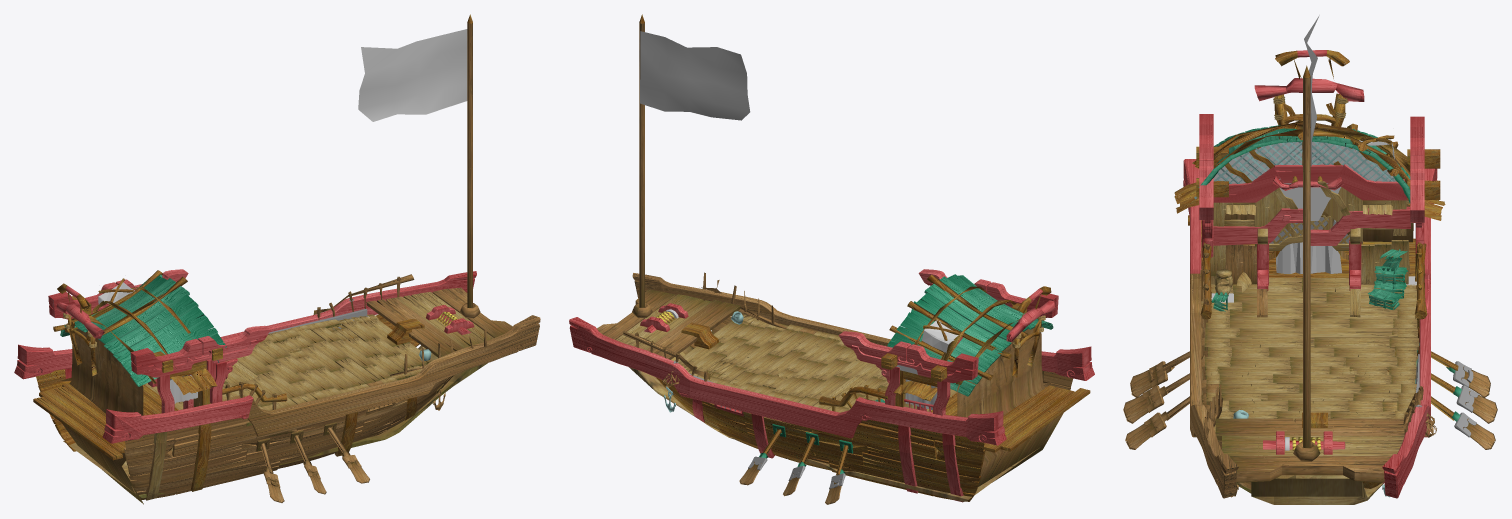
File: 船_lowpoly20.FBX
The picture shows the model from 3 angles, left to right: view 1: azimuth 30°, elevation 25°; view 2: azimuth 150°, elevation 25°; view 3: azimuth 270°, elevation 25°; orthographic projection. The views are drawn at different scales.
Visible parts, largest first — view 1: Object528, 旗帜, Plane01, Object12, Object261, Cylinder018, 船底, Object198, Object200, Object76, Object77, Object36 (+10 smaller); view 2: Object12, 旗帜, Object528, Plane01, Object36, 船底, Object63, Group15, Cylinder018, Object58, Object61, Object59 (+20 smaller); view 3: Object528, Object12, 船底, Cylinder018, Object07, Object182, Object67, Object223, Object36, Object123, Object112, Object261 (+57 smaller).
Part boxes in pixels (bbox=[...]): Object528: bbox=[102, 287, 540, 502]; 旗帜: bbox=[358, 29, 467, 121]; Plane01: bbox=[62, 328, 143, 504]; Object12: bbox=[14, 271, 476, 379]; Object261: bbox=[130, 325, 270, 377]; Cylinder018: bbox=[467, 23, 472, 307]; 船底: bbox=[63, 345, 487, 498]; Object198: bbox=[104, 294, 198, 354]; Object200: bbox=[113, 306, 208, 365]; Object76: bbox=[33, 396, 122, 460]; Object77: bbox=[39, 389, 125, 453]; Object36: bbox=[48, 269, 188, 319]; Object12: bbox=[569, 317, 1006, 445]; 旗帜: bbox=[640, 31, 750, 120]; Object528: bbox=[597, 273, 1094, 446]; Plane01: bbox=[957, 327, 1063, 486]; Object36: bbox=[838, 331, 978, 383]; 船底: bbox=[629, 346, 1038, 501]; Object63: bbox=[782, 421, 936, 458]; Group15: bbox=[861, 419, 985, 468]; Cylinder018: bbox=[639, 23, 644, 307]; Object58: bbox=[745, 422, 863, 465]; Object61: bbox=[862, 452, 980, 489]; Object59: bbox=[828, 459, 977, 501]; Object528: bbox=[1123, 159, 1404, 498]; Object12: bbox=[1382, 168, 1437, 498]; 船底: bbox=[1236, 350, 1395, 504]; Cylinder018: bbox=[1303, 77, 1310, 447]; Object07: bbox=[1194, 141, 1395, 199]; Object182: bbox=[1222, 435, 1404, 450]; Object67: bbox=[1213, 141, 1395, 183]; Object223: bbox=[1310, 206, 1410, 245]; Object36: bbox=[1410, 116, 1424, 222]; Object123: bbox=[1276, 217, 1341, 273]; Object112: bbox=[1213, 208, 1302, 245]; Object261: bbox=[1199, 114, 1213, 220].
Bounding box in the file's own units: 43.06 × 34.94 × 24.07.
